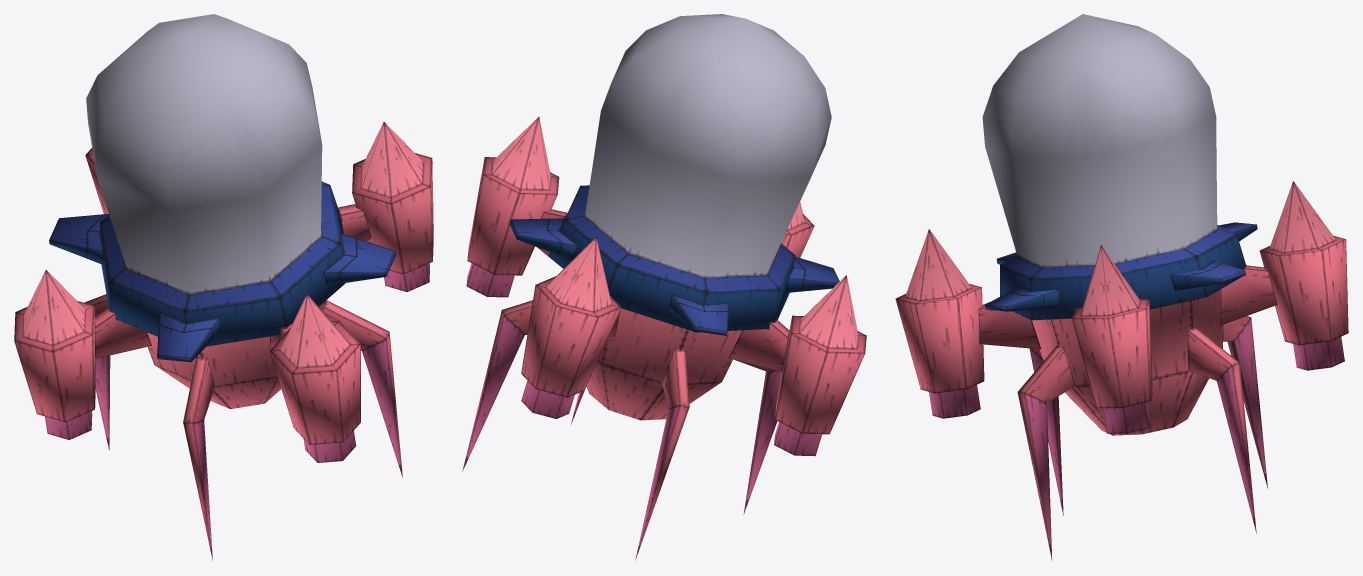
The model's file is jianzhu_2_1.FBX.
3 renders of one model, left to right at view 1: azimuth 30°, elevation 25°; view 2: azimuth 150°, elevation 25°; view 3: azimuth 270°, elevation 25°, orthographic. The views are drawn at different scales.
Visible parts, largest first — view 1: default006; view 2: default006; view 3: default006.
Part boxes in pixels (<box>): default006: <box>14,14,433,560</box>; default006: <box>462,14,866,560</box>; default006: <box>895,14,1348,560</box>.
Bounding box in the file's own units: 356 × 430 × 355.
